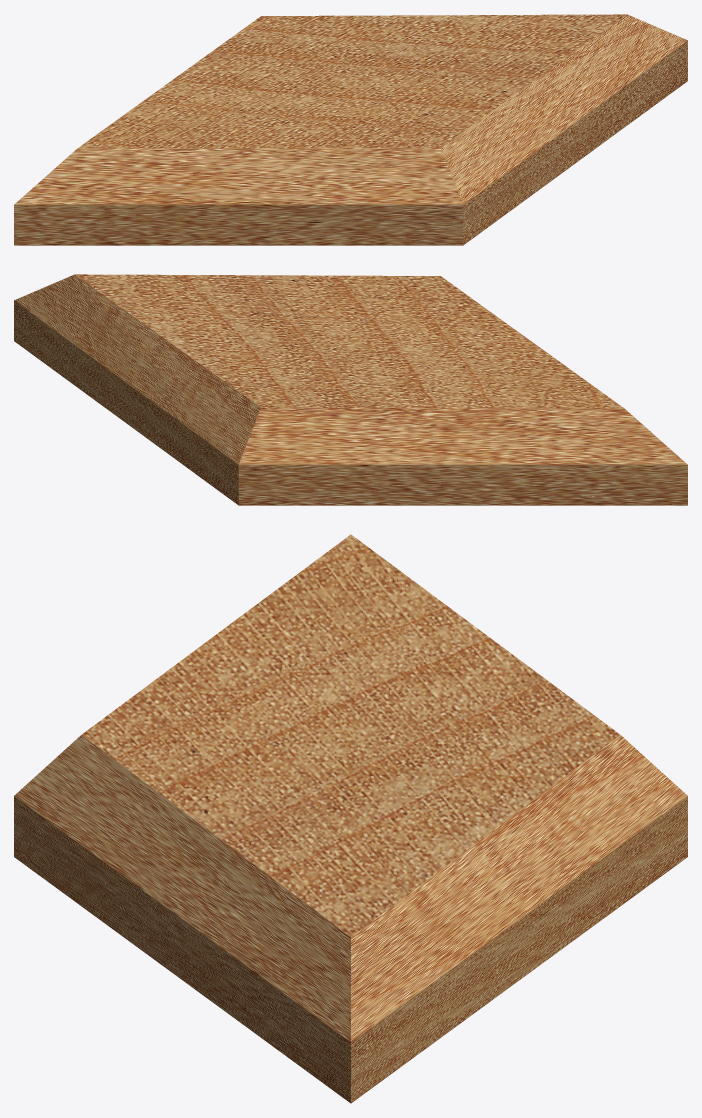
The model's file is Rhombus.FBX.
3 views of the same model, one above another, from view 1: azimuth 30°, elevation 25°; view 2: azimuth 150°, elevation 25°; view 3: azimuth 270°, elevation 25° (orthographic). The views are drawn at different scales.
Visible parts, largest first — view 1: Rhombus; view 2: Rhombus; view 3: Rhombus.
Boxes of the visible parts, x1,y1,x2,y2 form: Rhombus: [14, 14, 687, 245]; Rhombus: [14, 274, 687, 505]; Rhombus: [14, 534, 687, 1103].
Size of the model in its own units: 17.32 by 10 by 2.
